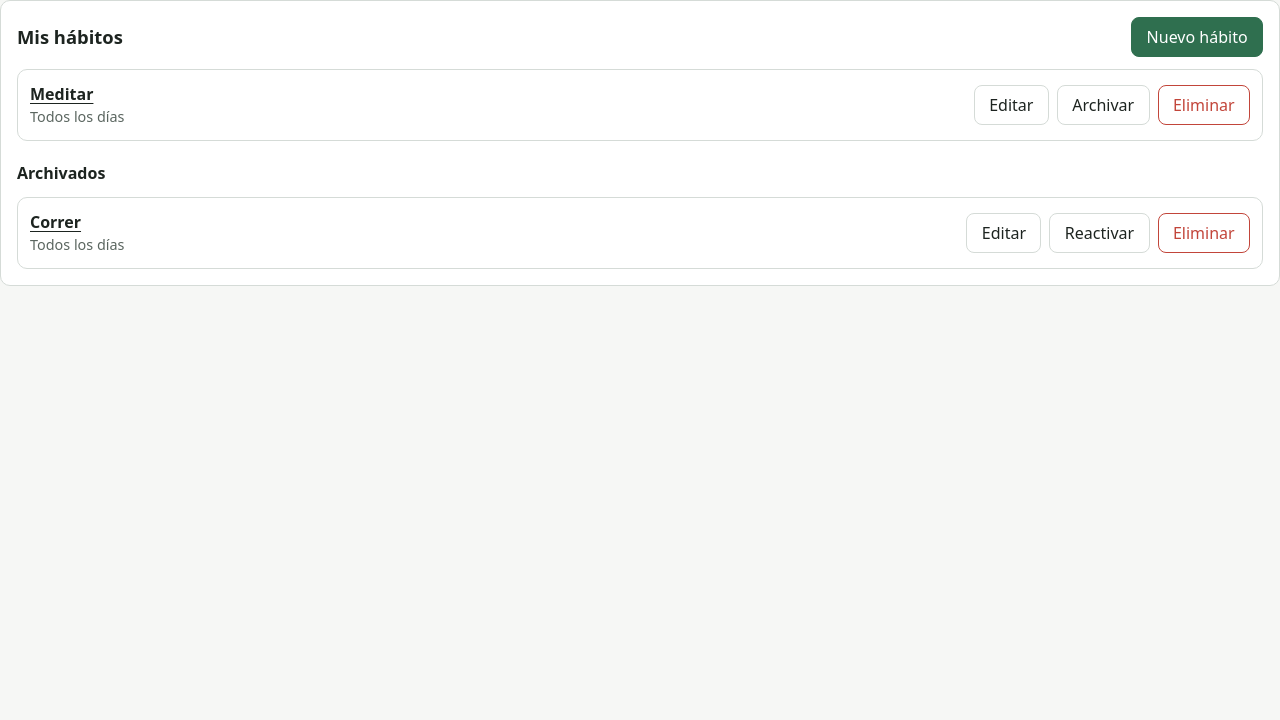
Scenario: HabitList (FR1.4, FR1.5) › eliminar pide confirmación antes de borrar
This screenshot has width=1280, height=720.
Later steps or results of the test are not shown.
Click the 1st button "Eliminar" at {"x": 1204, "y": 105}, box [1158, 85, 1250, 125]
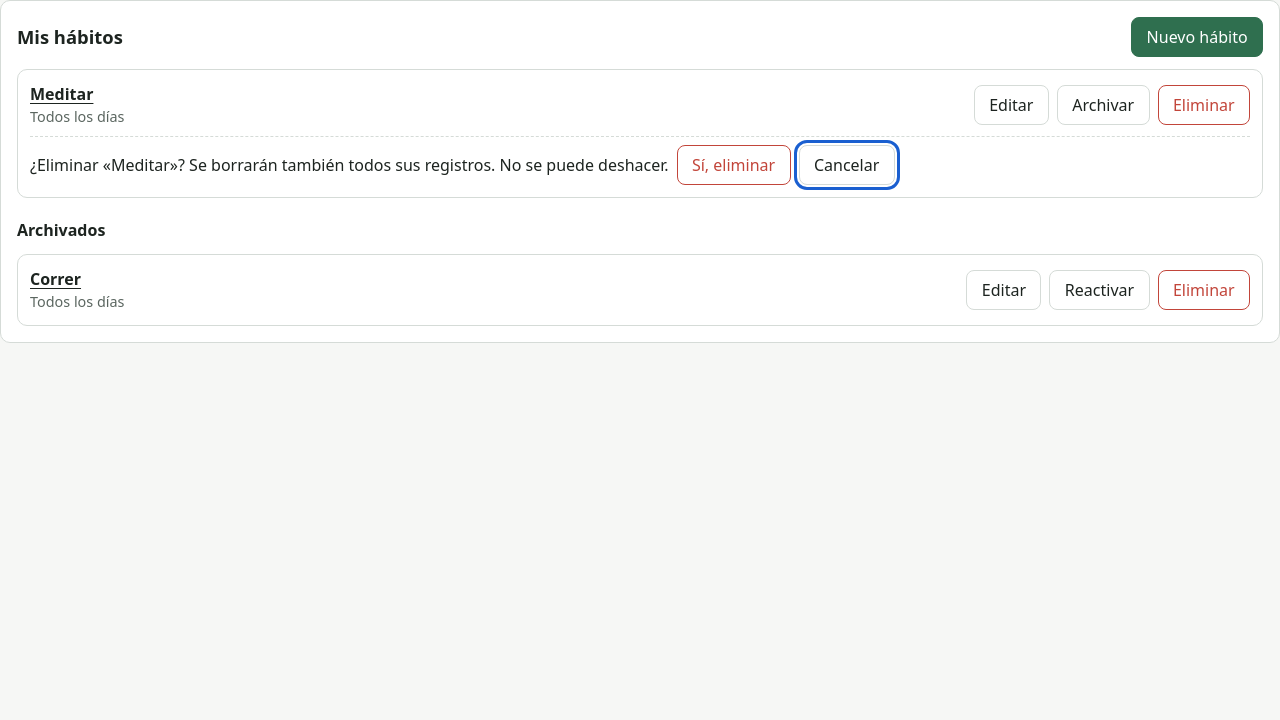
Result: the dialog with test id "delete-confirmation" shows "todos sus registros" at [170, 154, 668, 176]
